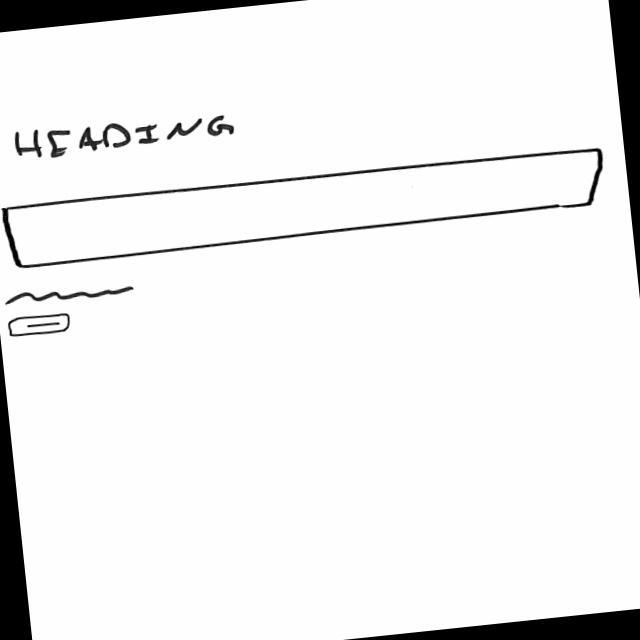container: (1, 142, 611, 272)
icon-button: (8, 312, 75, 341)
label: (5, 105, 241, 168)
text: (5, 281, 137, 311)
